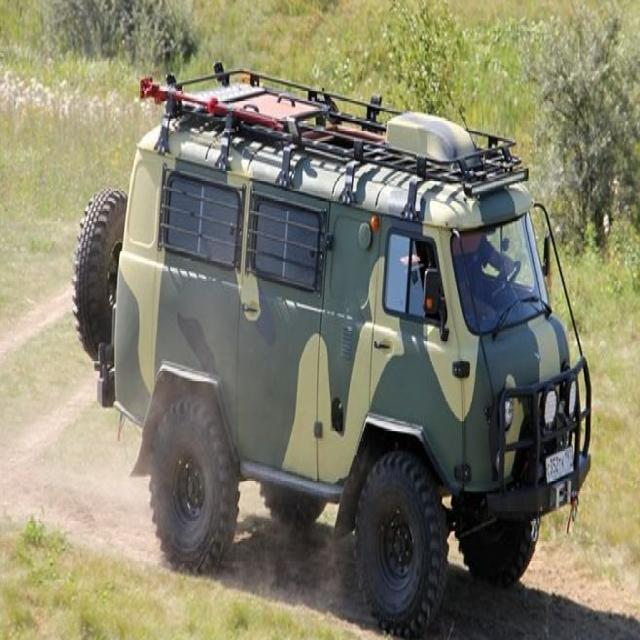CAR: (67, 60, 592, 639)
